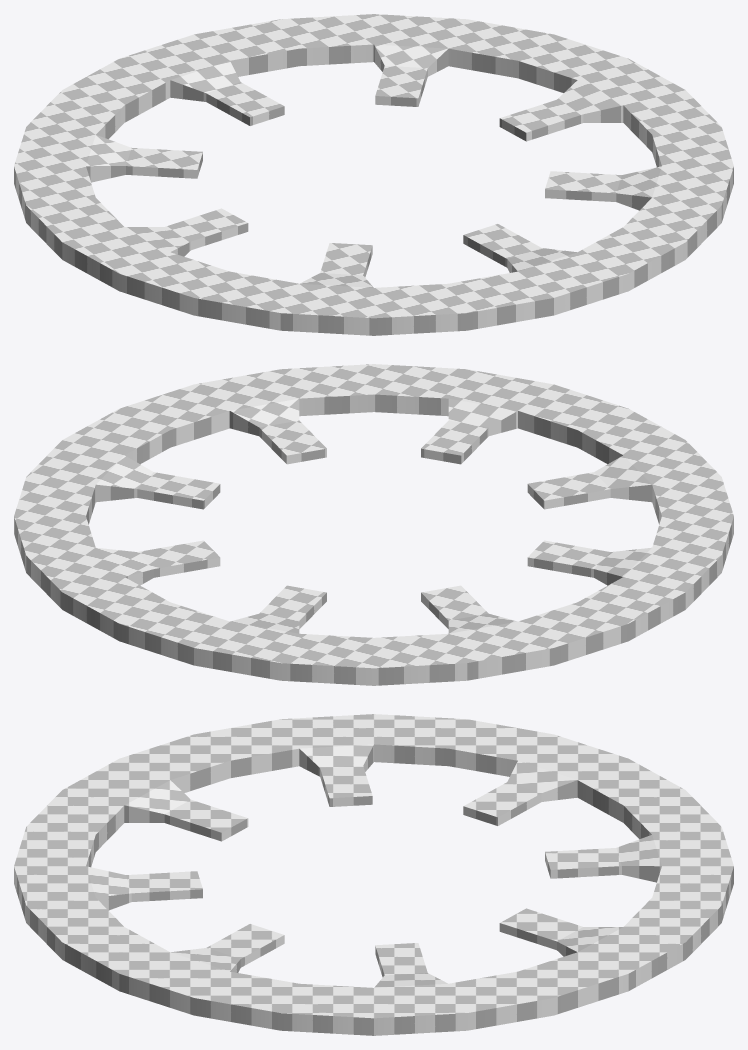
File: mothership_upper.obj
3 renders of one model, top to bottom at view 1: azimuth 30°, elevation 25°; view 2: azimuth 150°, elevation 25°; view 3: azimuth 270°, elevation 25°, orthographic.
Visible parts, largest first — view 1: mergedBlocks; view 2: mergedBlocks; view 3: mergedBlocks.
Part boxes in pixels (box(x1,y1,x2,y2)): mergedBlocks: box(14, 14, 733, 335); mergedBlocks: box(14, 364, 733, 685); mergedBlocks: box(14, 714, 733, 1035).
Size of the model in its own units: 8.82 by 0.2381 by 8.82.
Materials: 1 (1 with a texture image).
